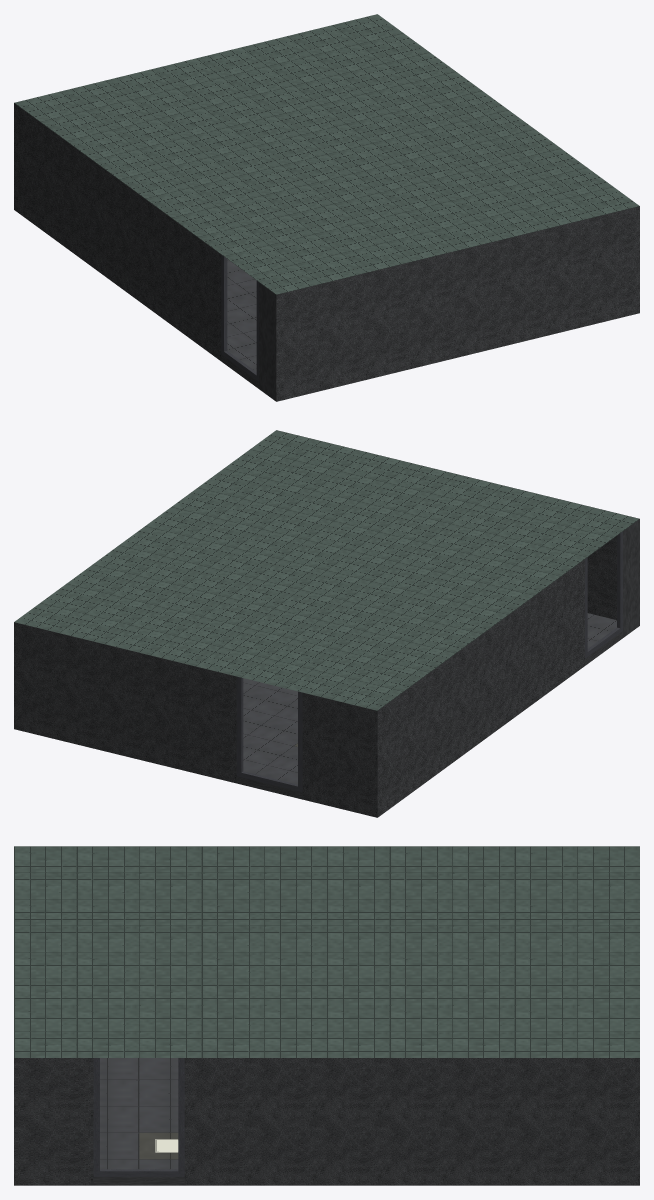
File: guards.obj
3 renders of one model, top to bottom at view 1: azimuth 30°, elevation 25°; view 2: azimuth 150°, elevation 25°; view 3: azimuth 270°, elevation 25°, orthographic. The views are drawn at different scales.
Size of the model in its own units: 640 by 180 by 800.
Materials: 11 (10 with a texture image).
